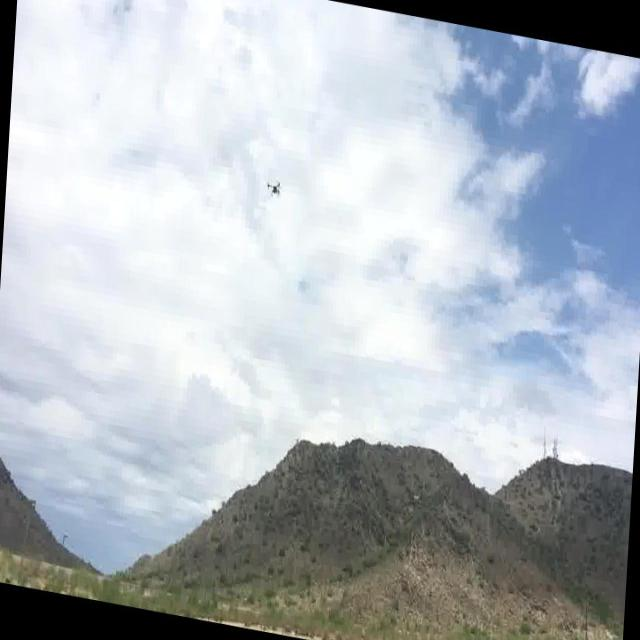drone: (265, 173, 283, 201)
